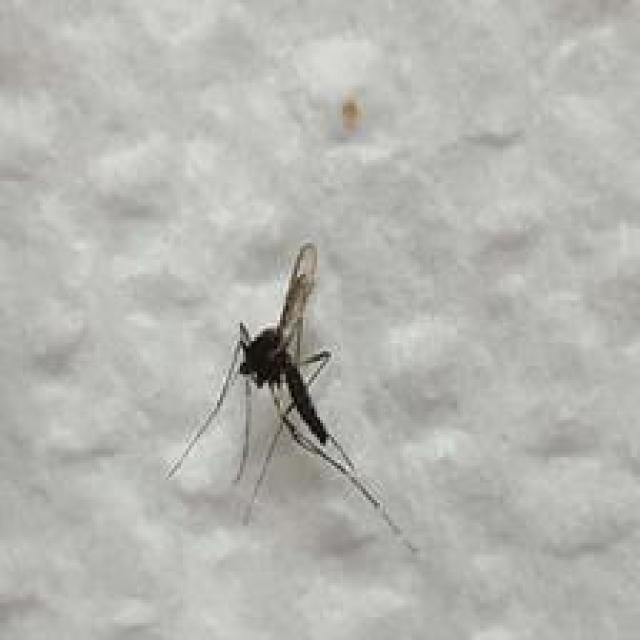Aedes albopictus: (164, 240, 419, 554)
